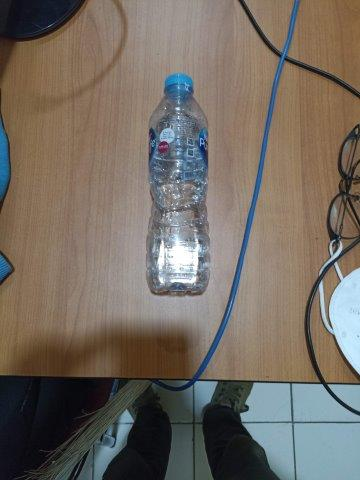botolplastik: (146, 73, 208, 293)
